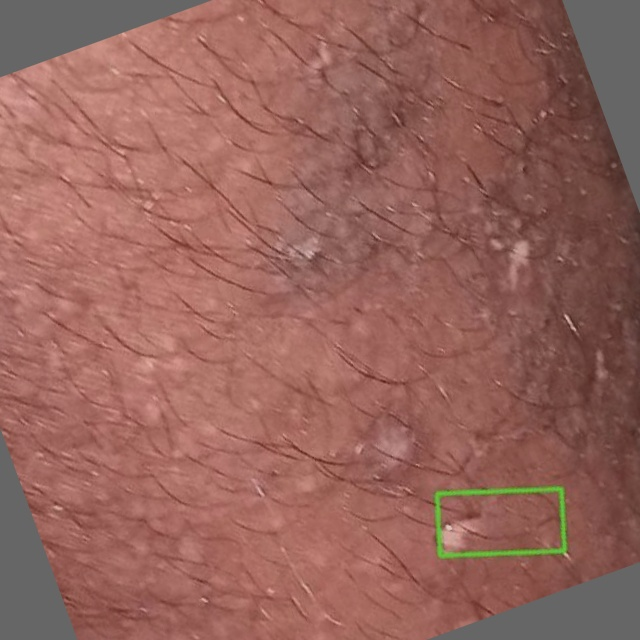Eczema: (437, 489, 563, 556)
